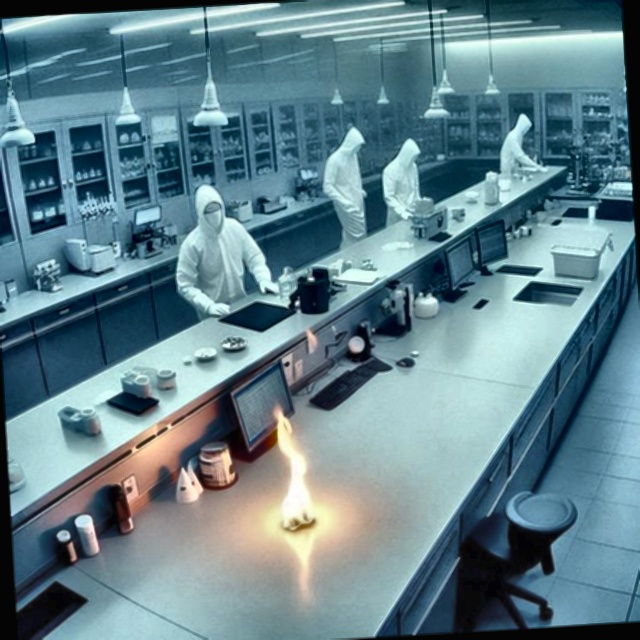fire: (238, 372, 331, 569)
